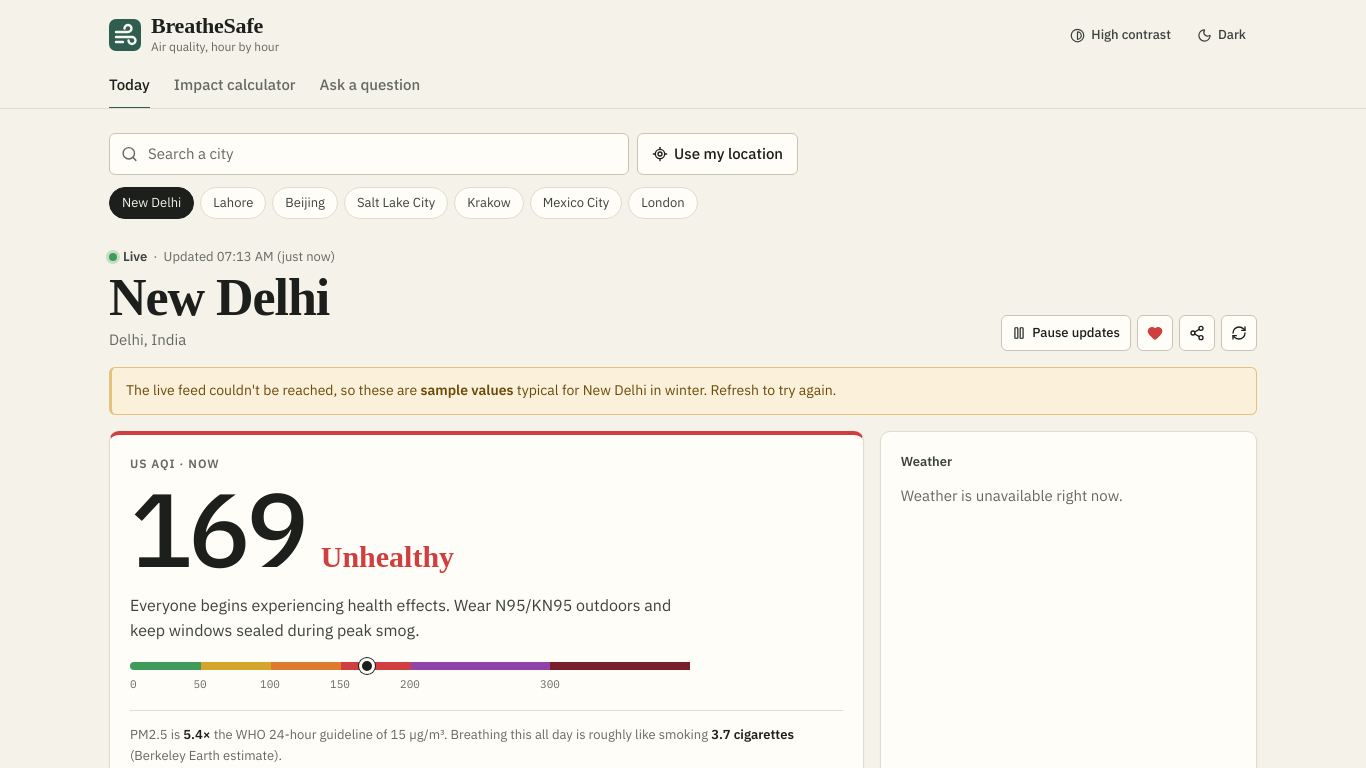
Test case: WCAG checks across every section › links a failed answer to the question box as its error
The image size is (1366, 768).
Expected: the heading named "Air quality in New Delhi" is shown, [109, 271, 335, 326]
Step 1. Click the tab "Ask a question" → (370, 85), box [320, 63, 420, 108]
(page scrolled)
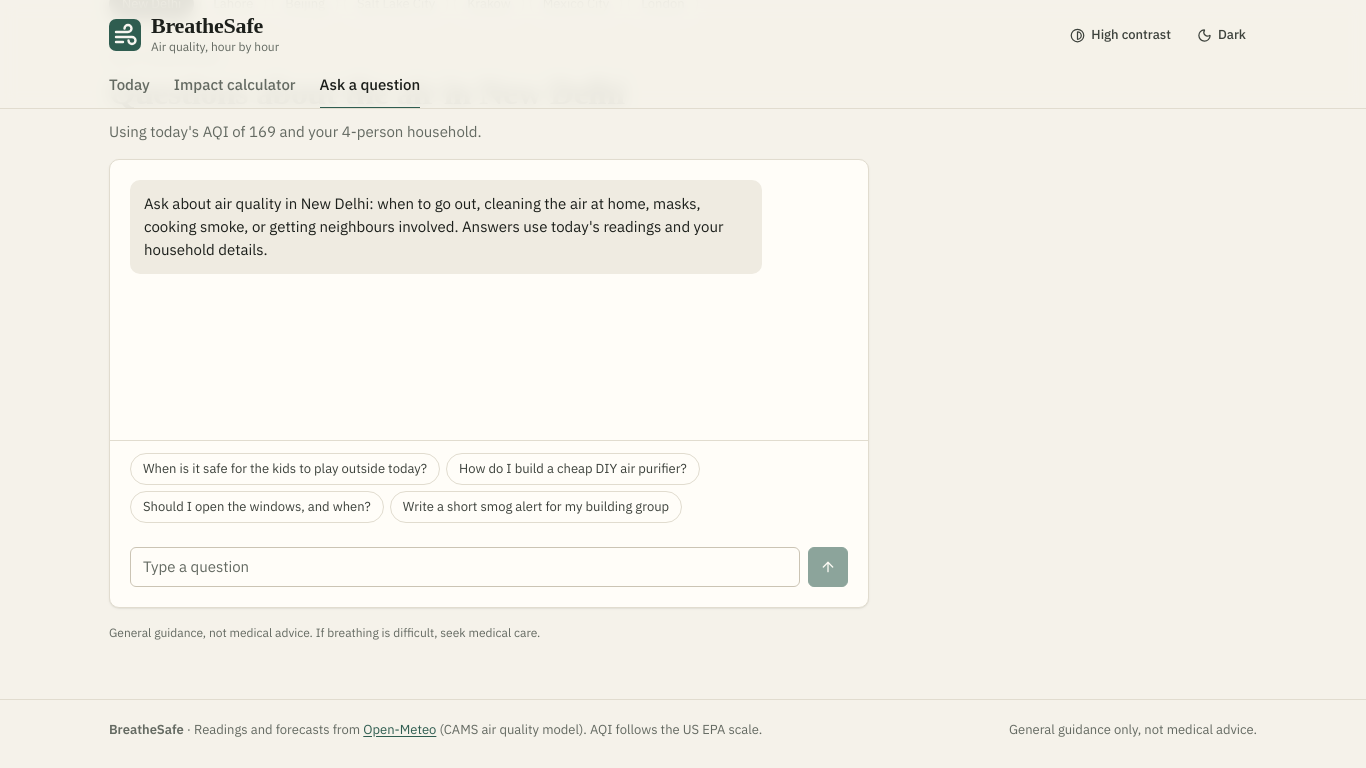
Step 2. Type "Is it safe to jog?" into the field named "Ask a question about air quality" → (465, 567), box [130, 547, 800, 587]
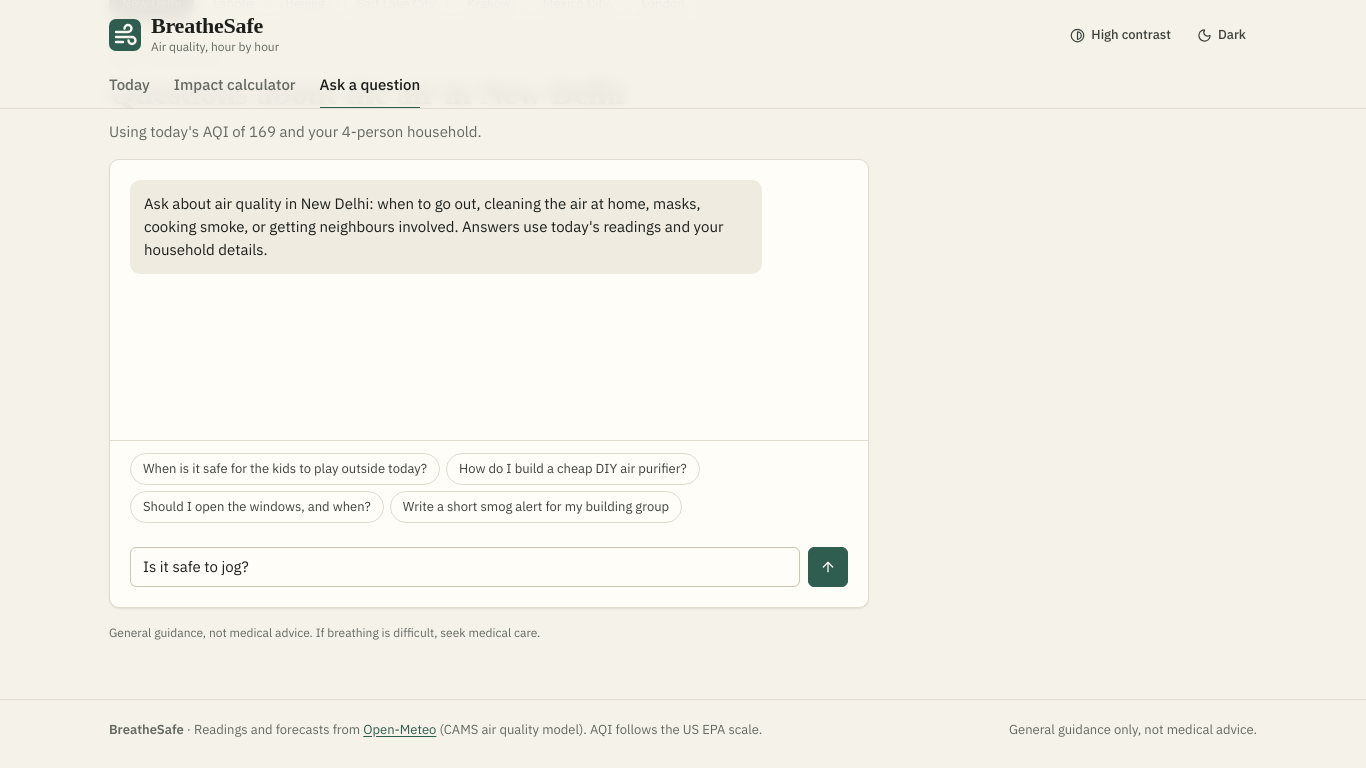
Step 3. Submit the form named "Ask a question about air quality", box [129, 547, 848, 587]
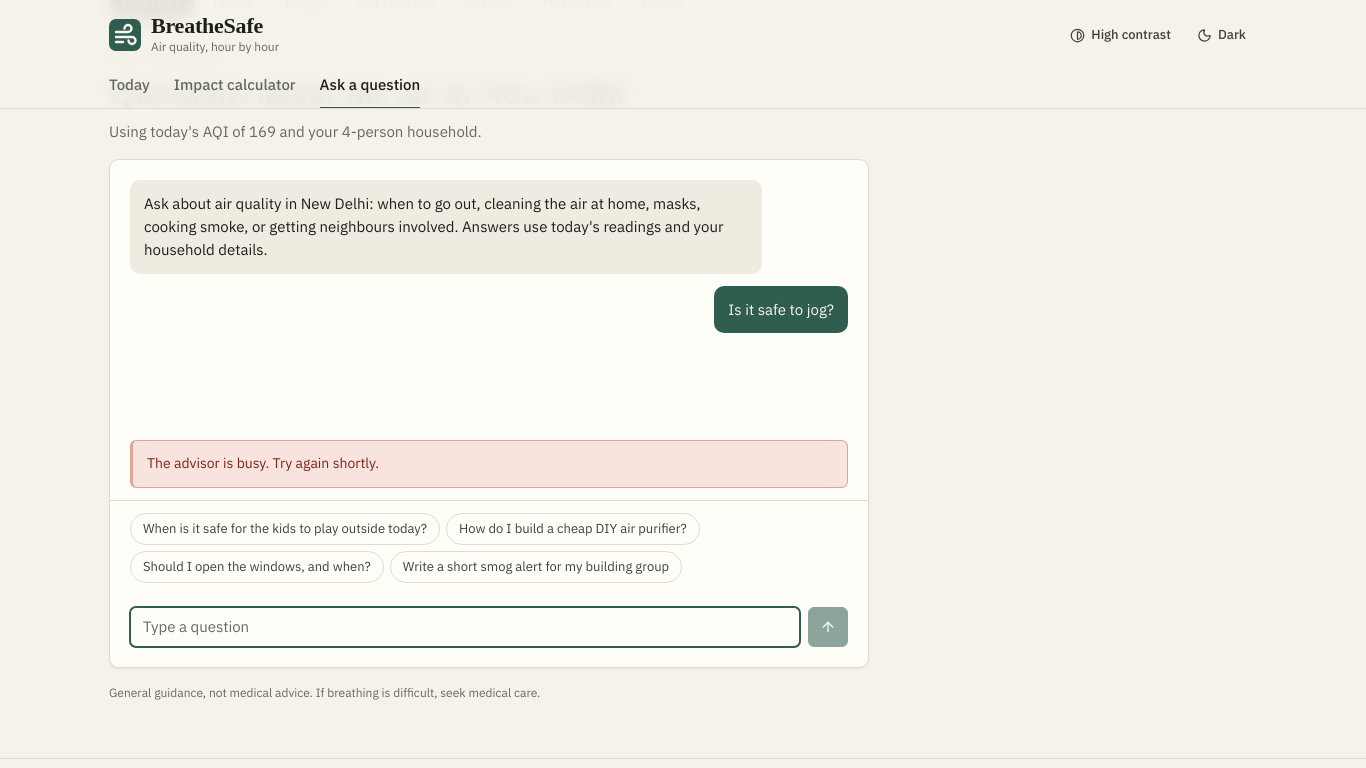
Now the message shows "advisor is busy", box [147, 454, 379, 472]
